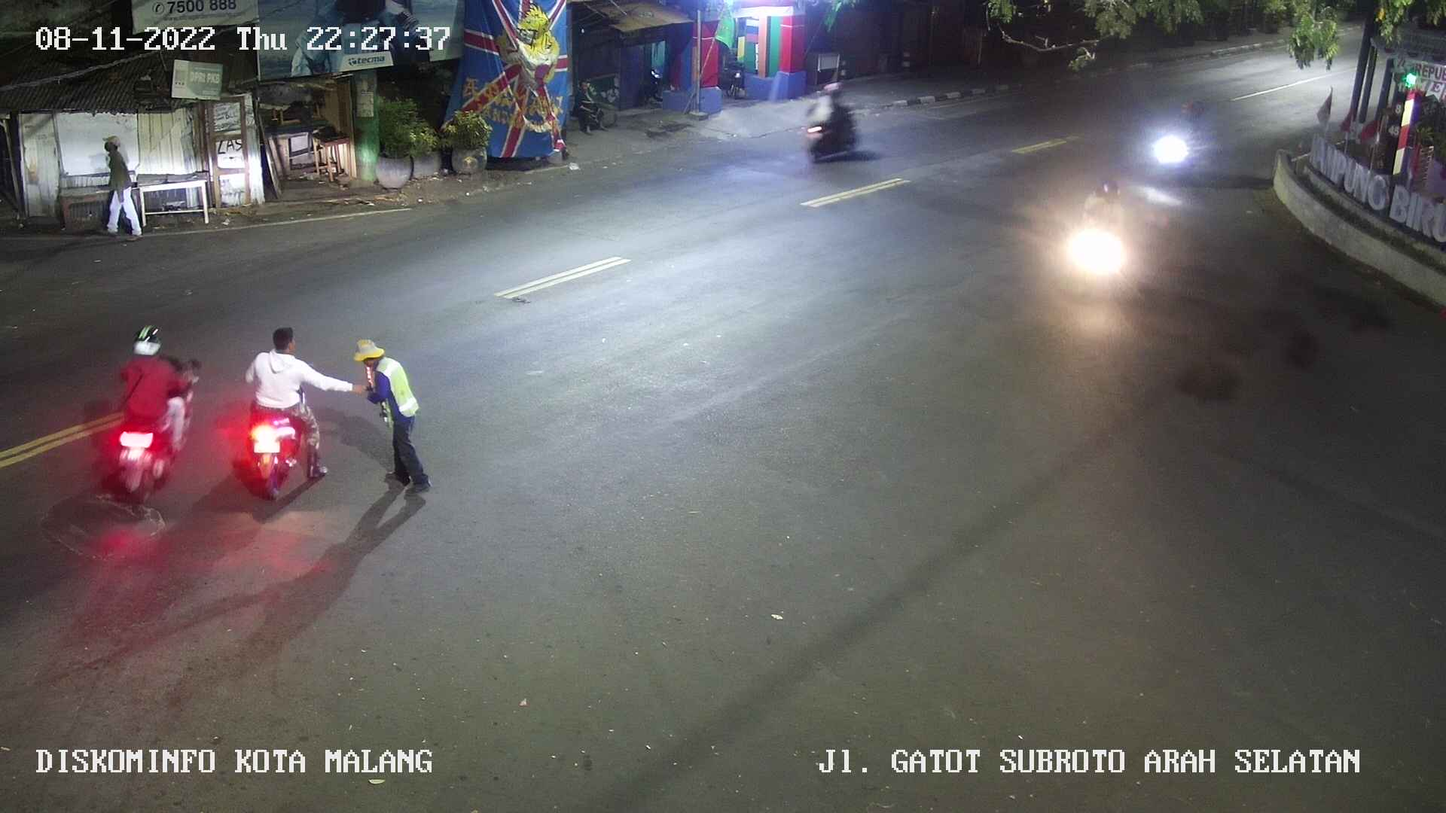with_helmet: (76, 313, 207, 505)
without_helmet: (236, 307, 362, 505)
